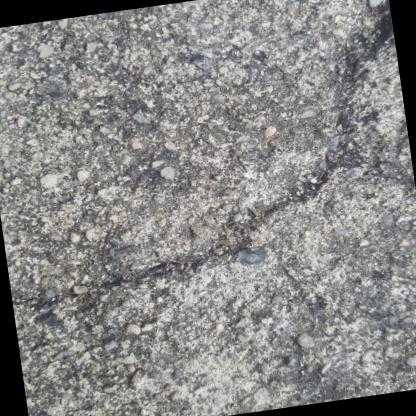crack: (25, 0, 416, 324)
